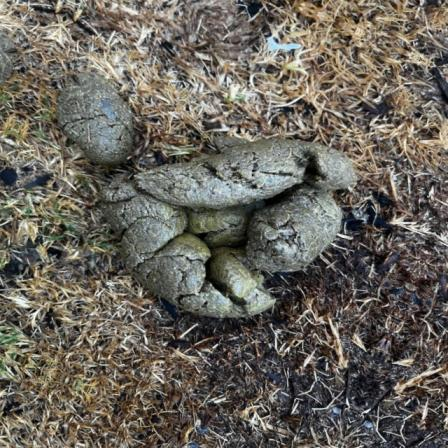dog-poop: (69, 77, 359, 334)
